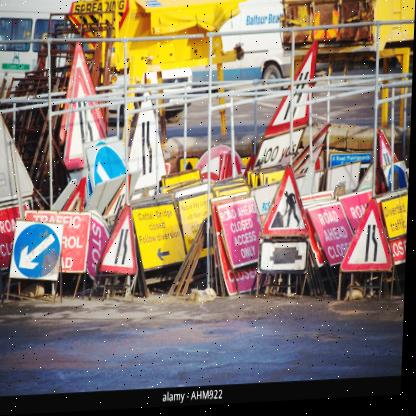Keep left: (12, 220, 64, 281)
